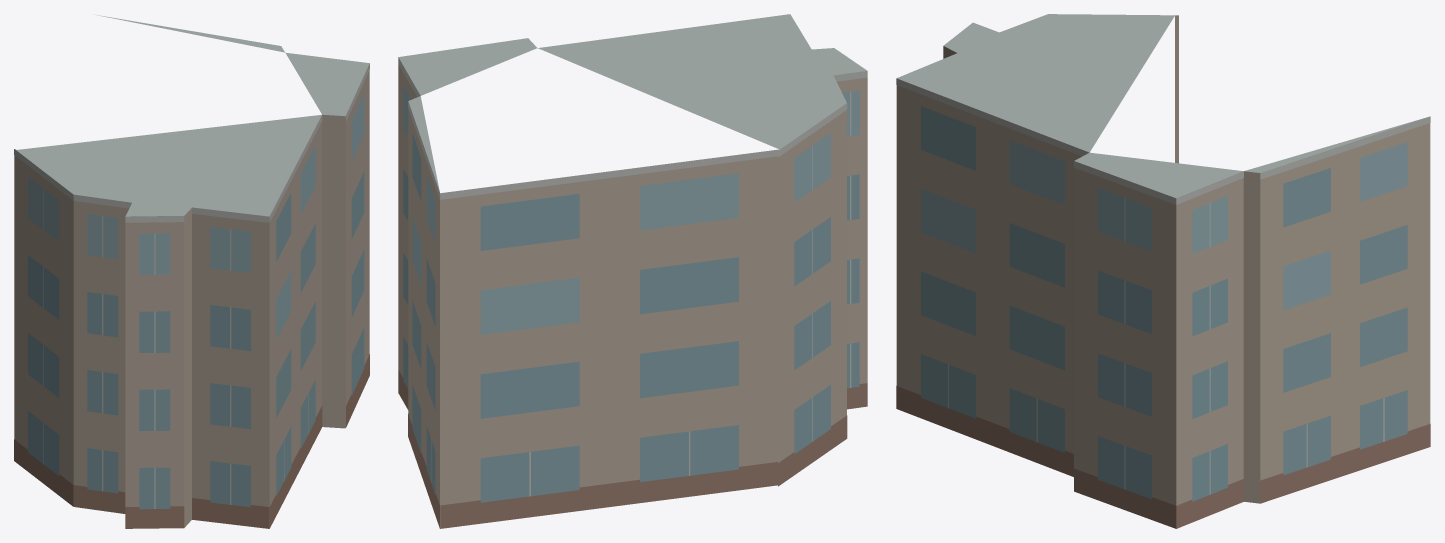
Rendered from survey-upis-33039710.glb.
3 renders of one model, left to right at view 1: azimuth 30°, elevation 25°; view 2: azimuth 150°, elevation 25°; view 3: azimuth 270°, elevation 25°, orthographic. The views are drawn at different scales.
Visible parts, largest first — view 1: survey-upis-33039710.tmp; view 2: survey-upis-33039710.tmp; view 3: survey-upis-33039710.tmp.
Boxes of the visible parts, left/top/right/bottom form: survey-upis-33039710.tmp: left=14, top=15, right=369, bottom=528; survey-upis-33039710.tmp: left=398, top=14, right=867, bottom=528; survey-upis-33039710.tmp: left=896, top=14, right=1430, bottom=528.
Bounding box in the file's own units: 14.6 × 12.2 × 17.87.
